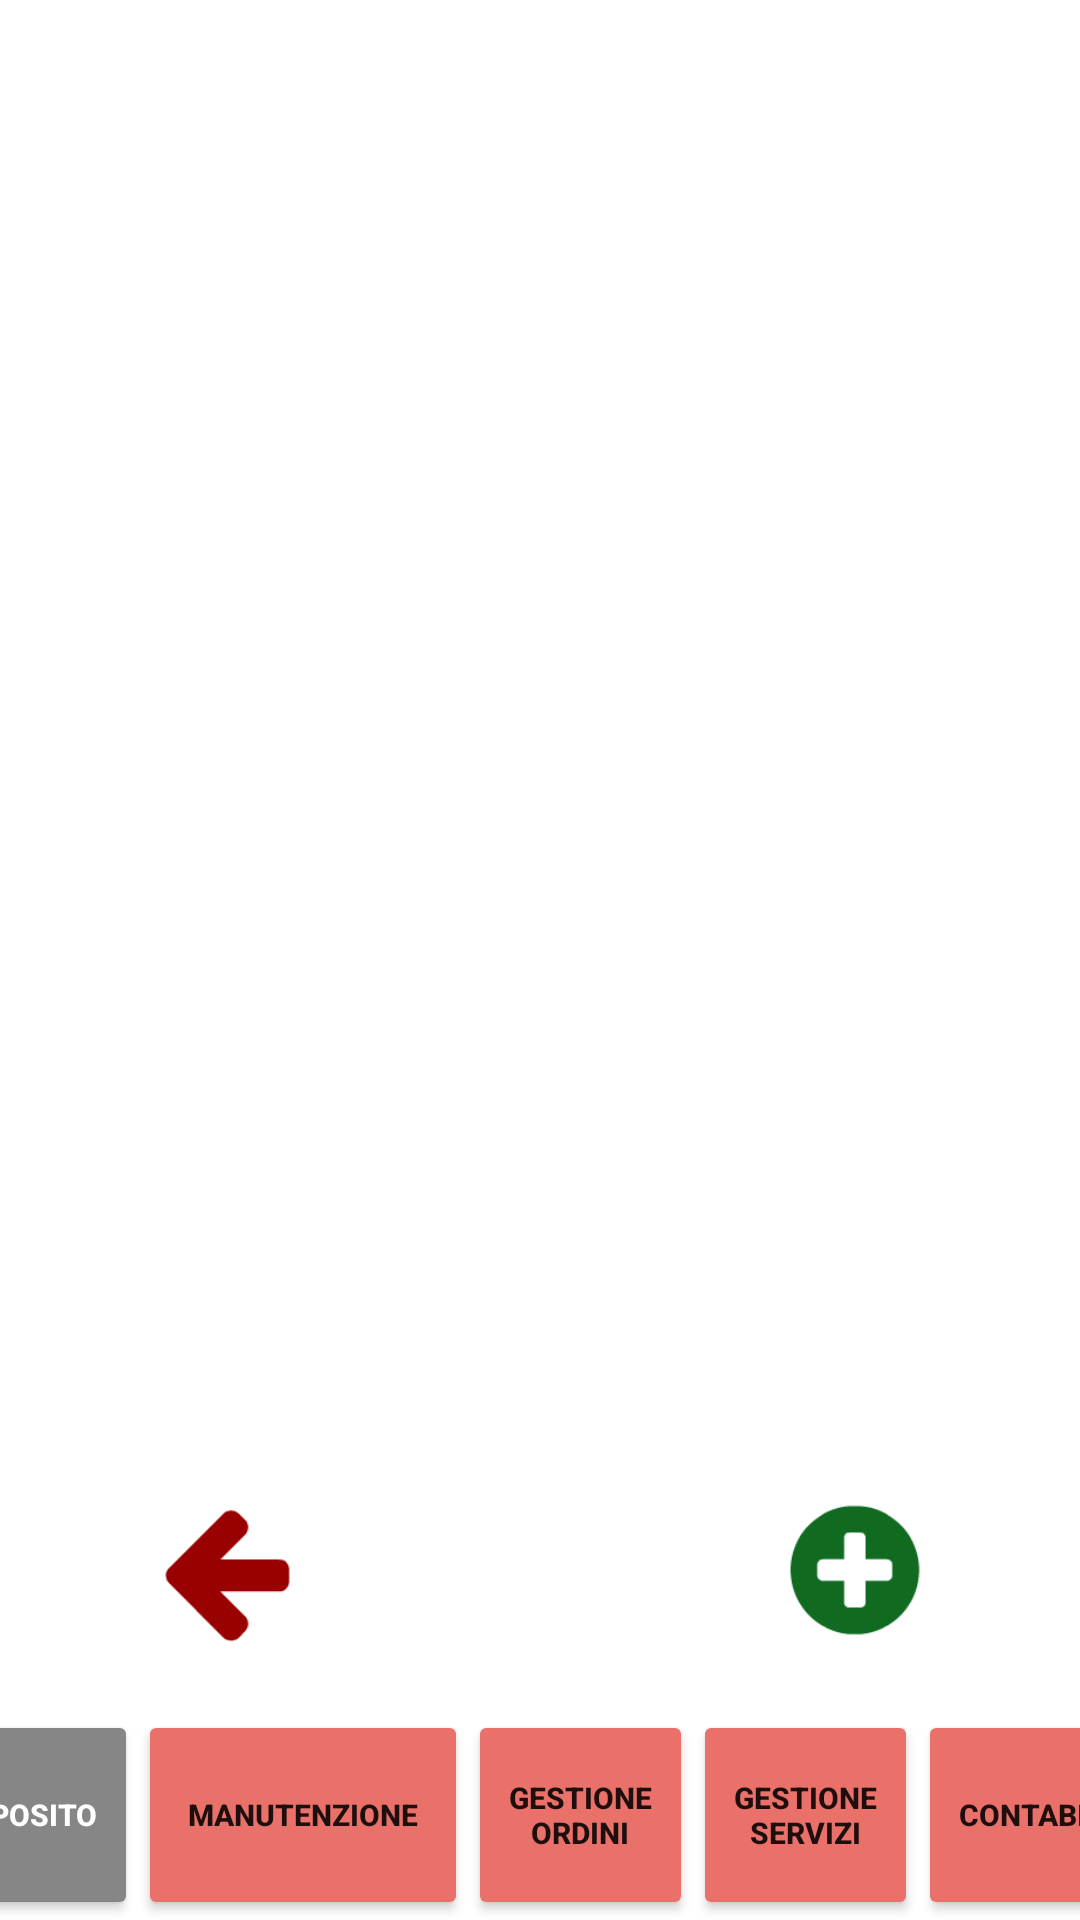

Icons on this 1080*1920 Android screen, each with its box as box(x1, y1, x2, y2):
cont aggiungi: box(790, 1505, 920, 1635)
freccia: box(165, 1510, 290, 1642)
